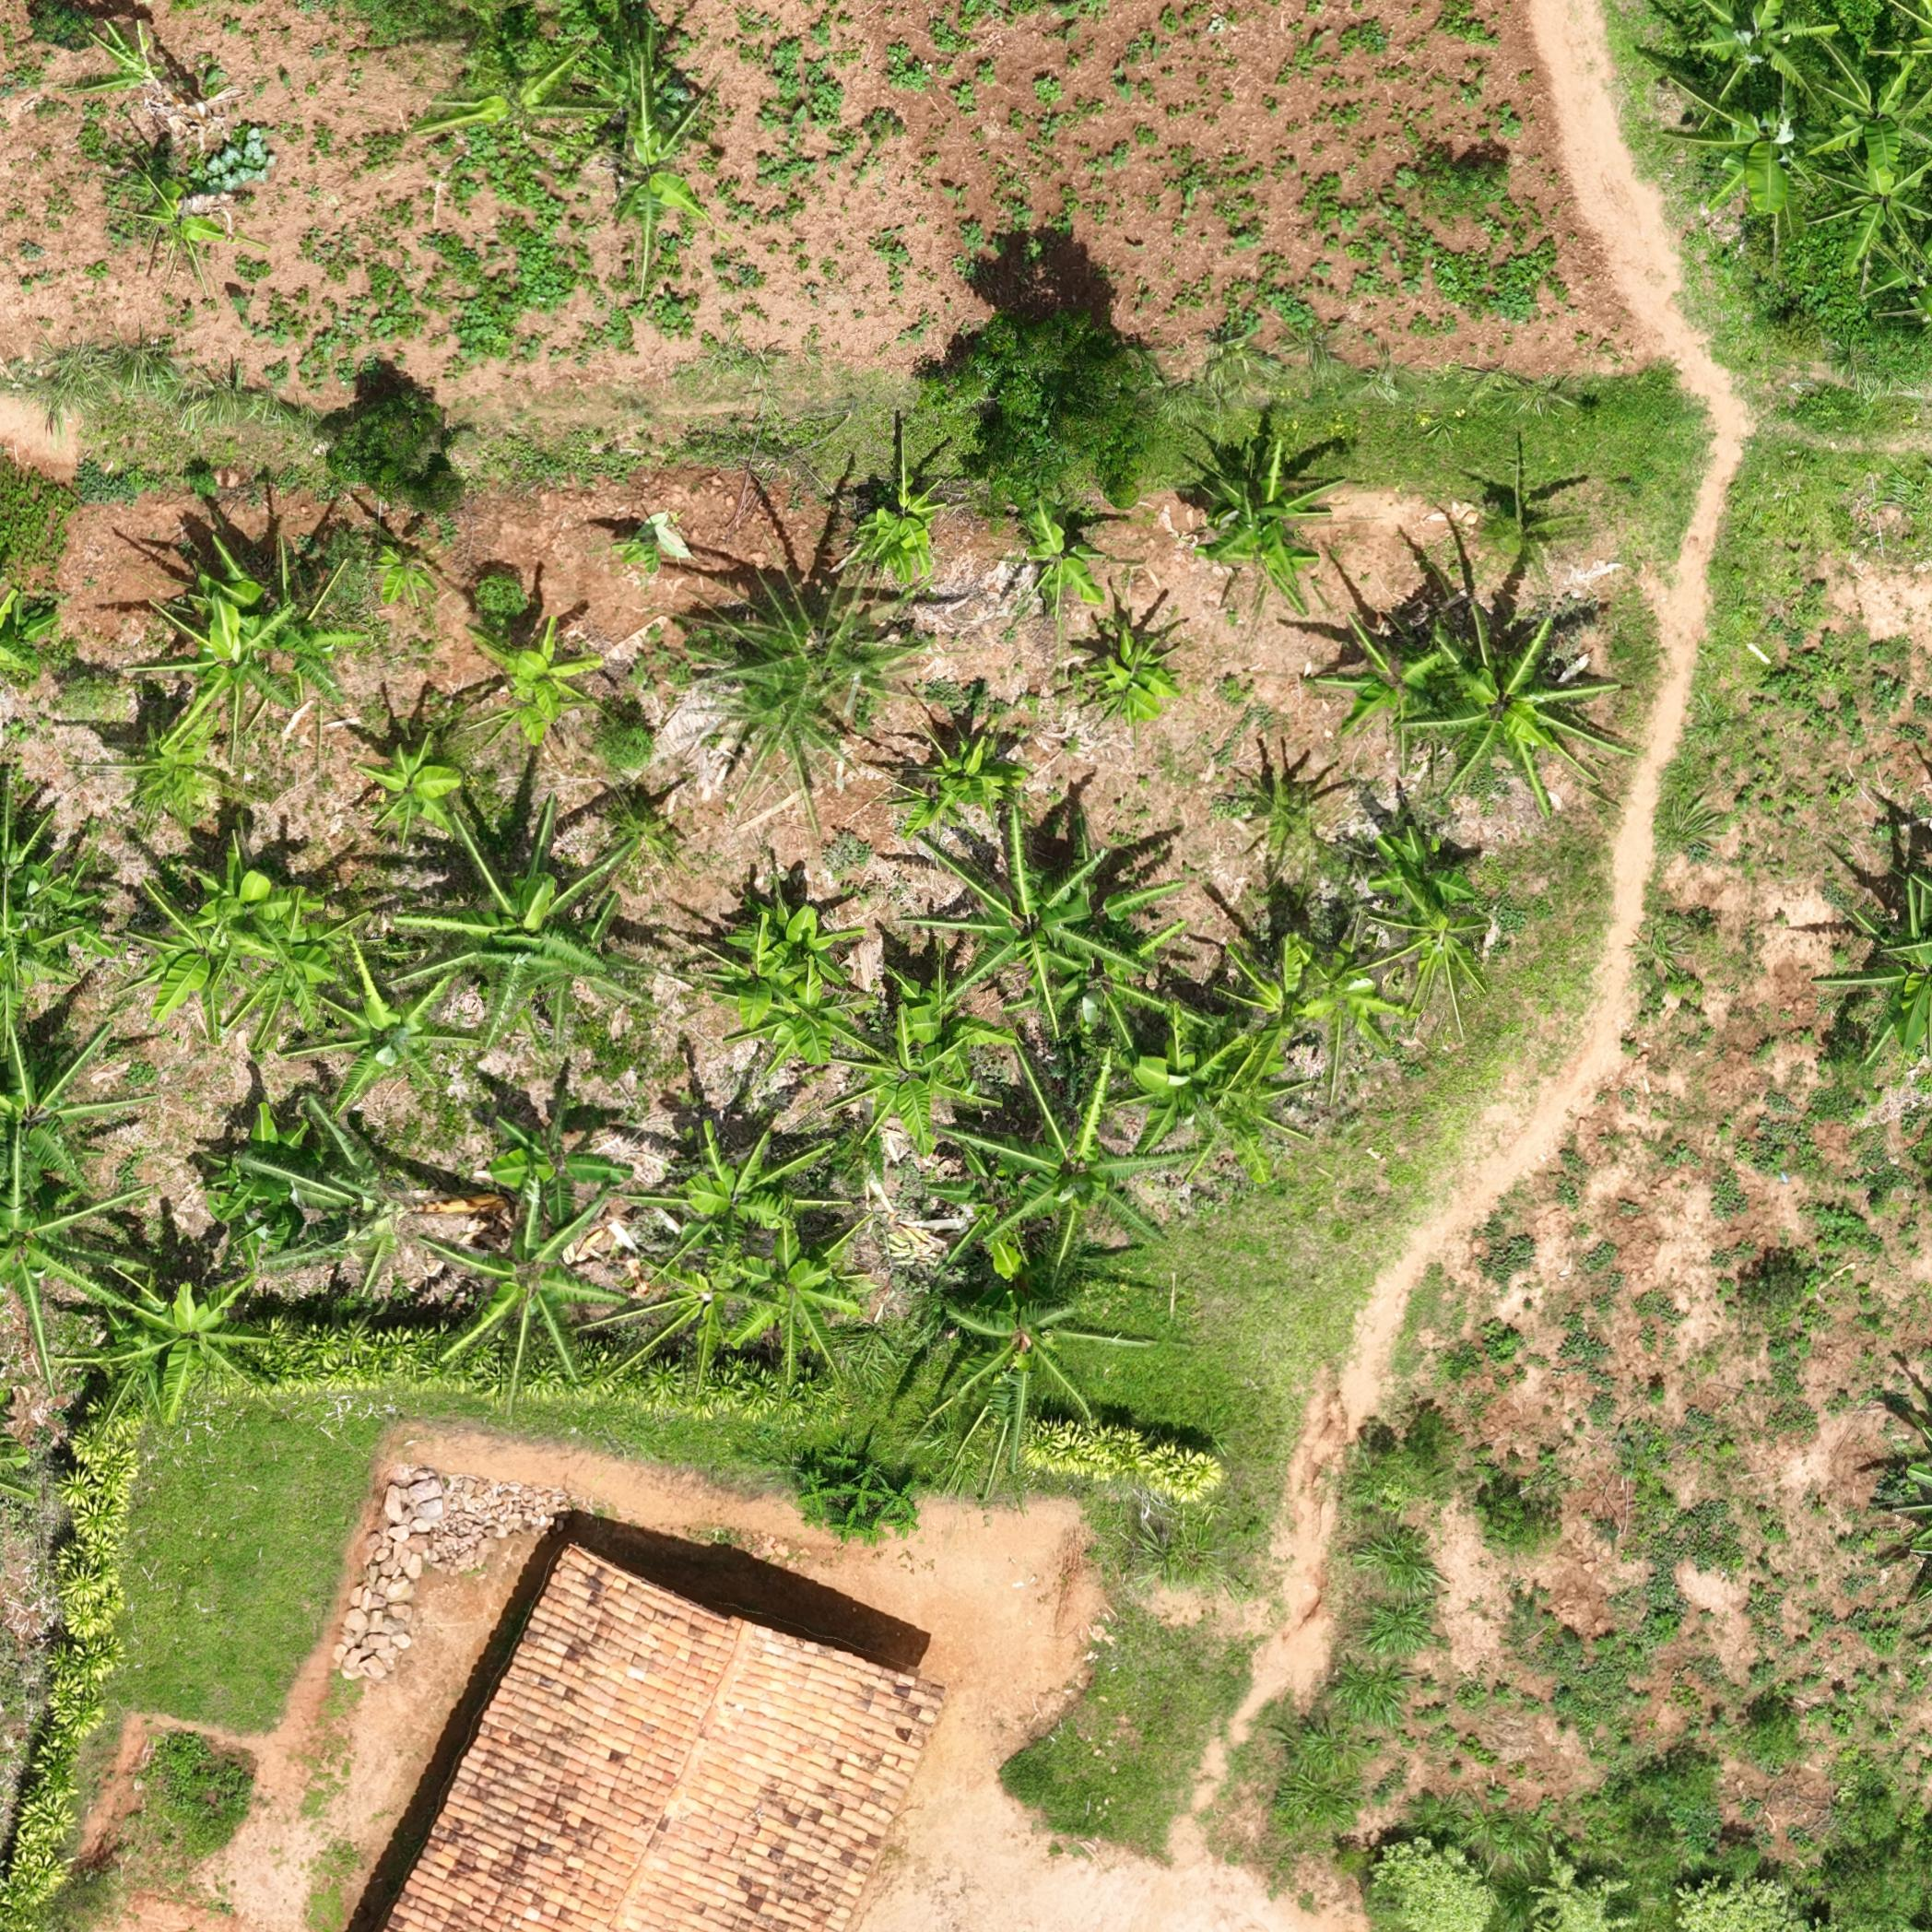Banana: (1422, 603, 1614, 798), (925, 833, 1113, 1005), (416, 1214, 623, 1355), (207, 1138, 398, 1281), (1654, 57, 1819, 219), (964, 1099, 1150, 1228), (430, 862, 605, 998), (646, 1123, 801, 1261), (1798, 131, 1930, 287), (1794, 39, 1930, 180), (1364, 835, 1491, 985), (828, 1016, 970, 1148), (731, 1235, 860, 1368), (1223, 941, 1357, 1069), (202, 552, 382, 646), (235, 872, 364, 1003), (184, 617, 324, 724), (1698, 5, 1835, 113), (186, 849, 283, 998), (488, 1118, 632, 1219), (644, 1253, 770, 1366), (750, 982, 886, 1086), (479, 637, 603, 741), (354, 731, 464, 846), (1330, 616, 1438, 732), (909, 727, 1030, 832), (101, 170, 234, 264), (1131, 1001, 1233, 1122), (1008, 506, 1116, 609), (1207, 449, 1330, 538), (1208, 1054, 1295, 1177), (1065, 632, 1175, 727), (1208, 510, 1323, 593), (619, 138, 711, 239), (430, 85, 610, 134), (90, 25, 189, 113), (745, 902, 853, 982), (860, 494, 945, 587), (701, 945, 840, 1001), (587, 58, 679, 126)
